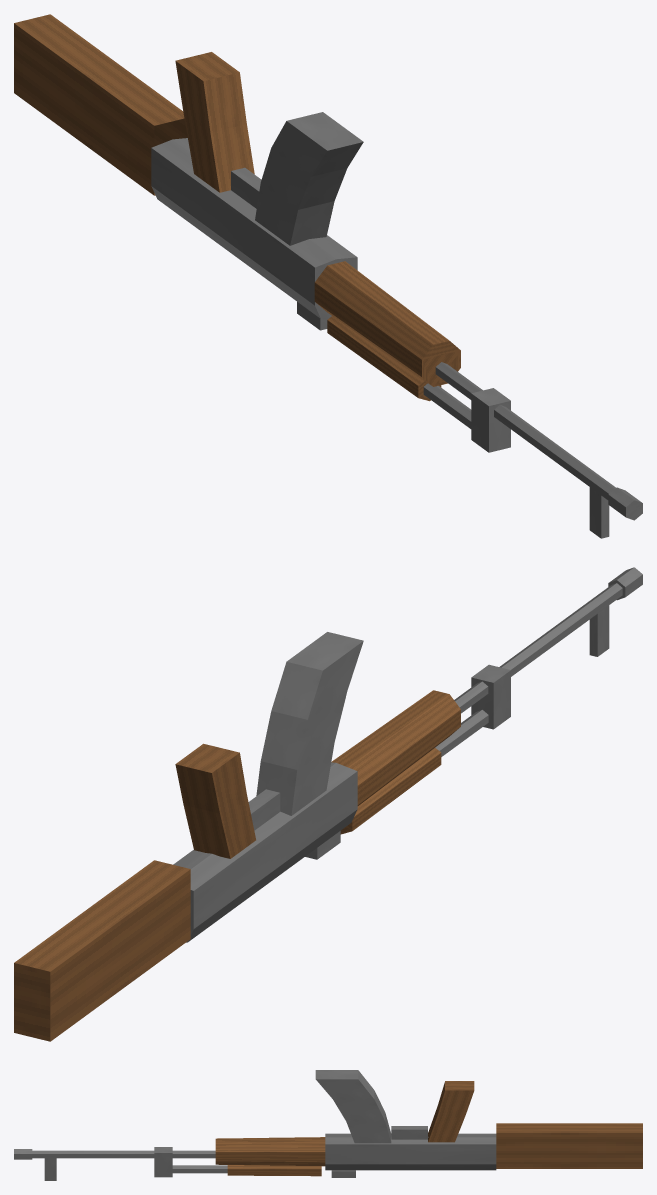
File: rifle.obj
3 renders of one model, top to bottom at view 1: azimuth 30°, elevation 25°; view 2: azimuth 150°, elevation 25°; view 3: azimuth 270°, elevation 25°, orthographic. The views are drawn at different scales.
Size of the model in its own units: 2.12 by 9.5 by 51.5.
Materials: 2 (2 with a texture image).
